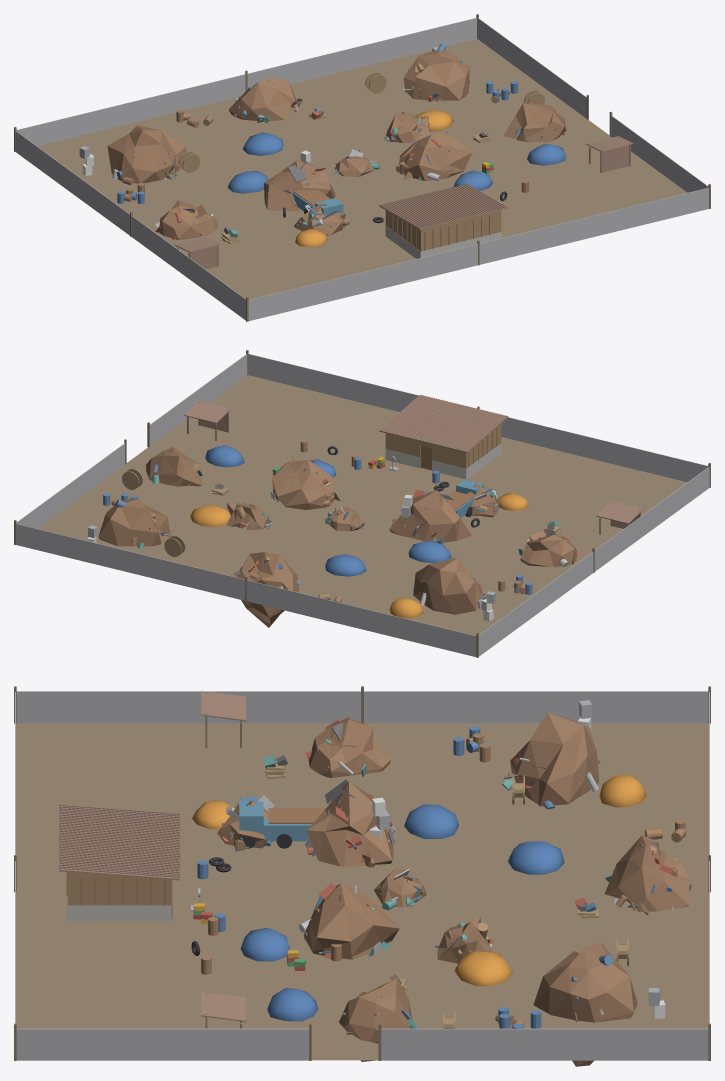
File: scrapyard.glb
3 views of the same model, one above another, from view 1: azimuth 30°, elevation 25°; view 2: azimuth 150°, elevation 25°; view 3: azimuth 270°, elevation 25° (orthographic). The views are drawn at different scales.
Parts seen in each view (by area): view 1: Ground, Fence_S, Fence_N, Fence_W, Heap_D, Shop_Roof, Heap_E, Shop_RoofRidges, ScrapHeap_B, Fence_E2, Heap_H, ScrapHeap_A (+18 smaller); view 2: Ground, Fence_N, Fence_S, Fence_W, Shop_Roof, Heap_D, Shop_RoofRidges, ScrapHeap_A, Heap_E, ScrapHeap_B, Fence_E2, Heap_H (+17 smaller); view 3: Ground, Fence_W, Fence_E2, Fence_E1, Shop_RoofRidges, Heap_D, Heap_E, Shop_Roof, ScrapHeap_A, ScrapHeap_B, Heap_H, Heap_F (+18 smaller).
Part boxes in pixels (left/top/right/bottom): Ground: left=38, top=39, right=687, bottom=299; Fence_S: left=248, top=187, right=708, bottom=320; Fence_N: left=16, top=18, right=476, bottom=146; Fence_W: left=15, top=131, right=245, bottom=320; Heap_D: left=107, top=125, right=186, bottom=185; Shop_Roof: left=379, top=184, right=508, bottom=229; Heap_E: left=402, top=44, right=470, bottom=101; Shop_RoofRidges: left=380, top=183, right=506, bottom=228; ScrapHeap_B: left=399, top=130, right=472, bottom=181; Fence_E2: left=477, top=18, right=586, bottom=118; Heap_H: left=228, top=77, right=302, bottom=123; ScrapHeap_A: left=264, top=160, right=335, bottom=211; Ground: left=37, top=375, right=686, bottom=635; Fence_N: left=16, top=523, right=476, bottom=656; Fence_S: left=248, top=354, right=708, bottom=482; Fence_W: left=479, top=467, right=709, bottom=656; Shop_Roof: left=379, top=395, right=508, bottom=452; Heap_D: left=412, top=557, right=486, bottom=614; Shop_RoofRidges: left=380, top=394, right=507, bottom=451; ScrapHeap_A: left=389, top=490, right=471, bottom=543; Heap_E: left=98, top=498, right=172, bottom=549; ScrapHeap_B: left=270, top=455, right=340, bottom=509; Fence_E2: left=16, top=443, right=125, bottom=528; Heap_H: left=233, top=552, right=300, bottom=627; Ground: left=16, top=723, right=708, bottom=1060; Fence_W: left=16, top=691, right=708, bottom=723; Fence_E2: left=381, top=1028, right=708, bottom=1060; Fence_E1: left=16, top=1028, right=308, bottom=1060; Shop_RoofRidges: left=59, top=804, right=179, bottom=877; Heap_D: left=502, top=712, right=600, bottom=809; Heap_E: left=533, top=942, right=637, bottom=1066; Shop_Roof: left=59, top=806, right=179, bottom=880; ScrapHeap_A: left=305, top=779, right=395, bottom=867; ScrapHeap_B: left=299, top=883, right=399, bottom=959; Heap_H: left=604, top=835, right=691, bottom=914; Heap_F: left=305, top=717, right=390, bottom=777.
Size of the model in its own units: 46.16 by 7.81 by 40.16.
